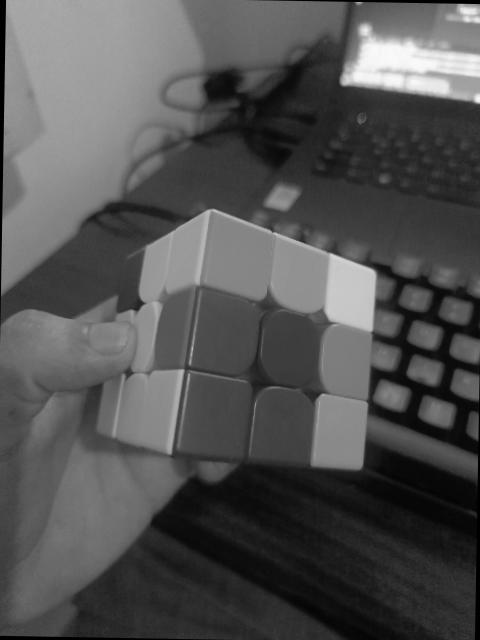rubik: (93, 205, 377, 472)
